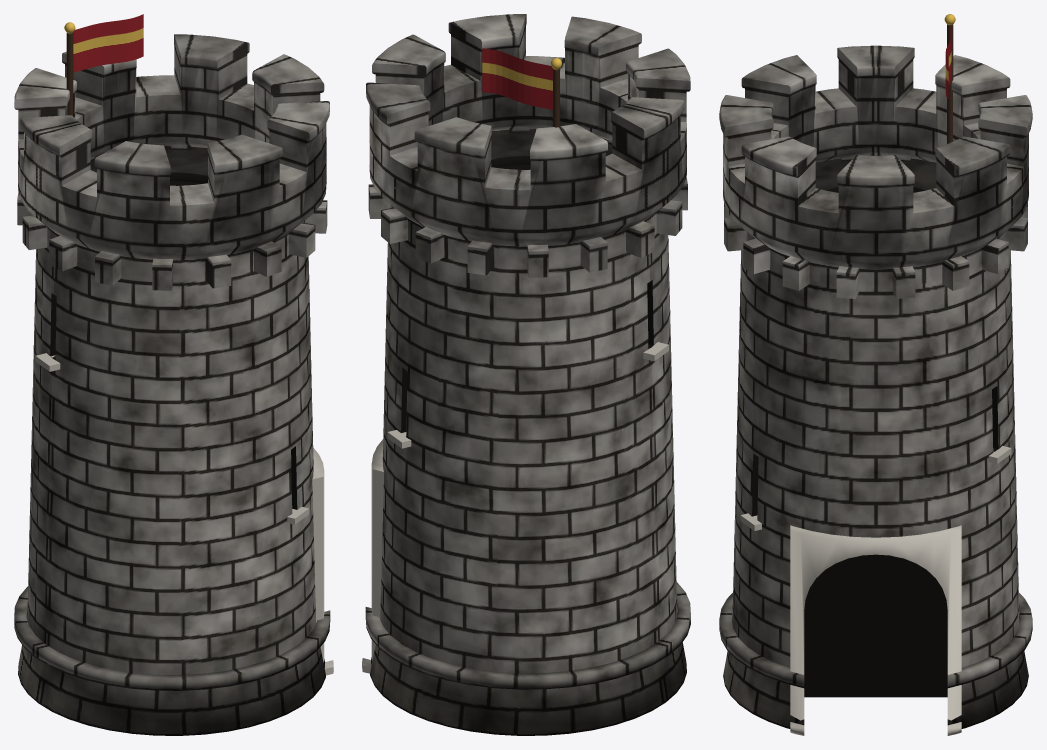
File: castle-keep.glb
The picture shows the model from 3 angles, left to right: view 1: azimuth 30°, elevation 25°; view 2: azimuth 150°, elevation 25°; view 3: azimuth 270°, elevation 25°; orthographic projection. The views are drawn at different scales.
Parts seen in each view (by area): view 1: keep, flag, door-frame, flagpole, sills; view 2: keep, flag, door-frame, sills; view 3: keep, door-frame, flagpole, sills.
Boxes of the visible parts, box(x1,y1,x2,y2) form: keep: box(14, 34, 330, 735); flag: box(73, 14, 143, 72); door-frame: box(312, 448, 333, 675); flagpole: box(66, 32, 73, 116); sills: box(35, 353, 308, 524); keep: box(365, 14, 690, 735); flag: box(482, 48, 553, 109); door-frame: box(362, 439, 383, 673); sills: box(387, 342, 668, 448); keep: box(719, 45, 1032, 728); door-frame: box(790, 525, 961, 735); flagpole: box(947, 24, 953, 143); sills: box(740, 446, 1011, 530).
Bounding box in the file's own units: 6.76 × 15 × 6.76.
8 materials, 2 textured.
